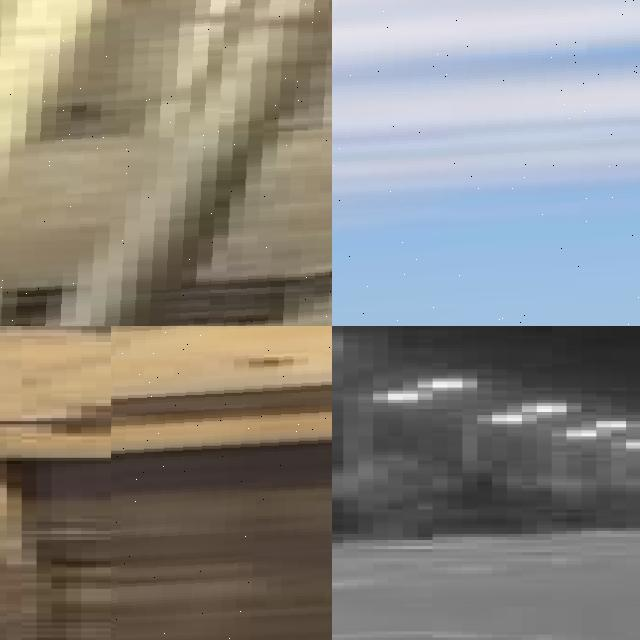street light: (0, 0, 332, 326), (332, 0, 640, 326), (111, 326, 332, 640), (343, 372, 478, 508)
